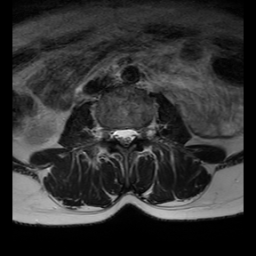CCS_normal: (120, 121, 128, 154)
LFS_normal: (136, 121, 146, 146)
LLS_normal: (128, 121, 136, 148)
RFS_normal: (104, 120, 112, 146)
RLS_normal: (112, 122, 120, 146)
